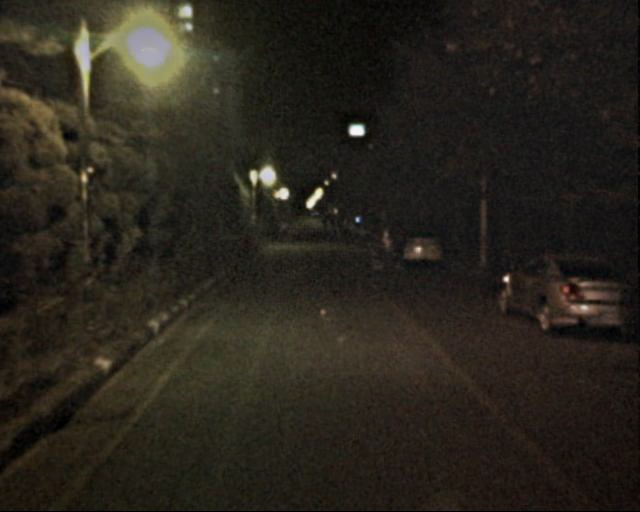person: (386, 220, 408, 273), (368, 228, 386, 272), (317, 218, 346, 238), (278, 217, 288, 242)
